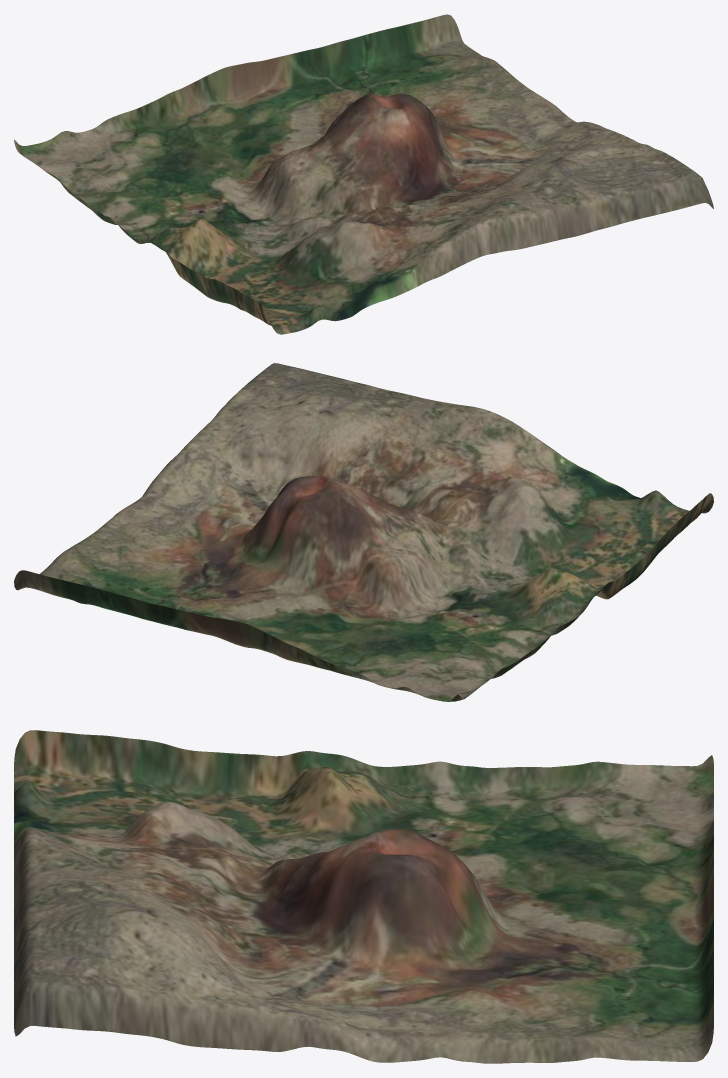
Rendered from Volcano.fbx.
3 views of the same model, one above another, from view 1: azimuth 30°, elevation 25°; view 2: azimuth 150°, elevation 25°; view 3: azimuth 270°, elevation 25° (orthographic). The views are drawn at different scales.
Parts seen in each view (by area): view 1: Plane; view 2: Plane; view 3: Plane.
Part boxes in pixels (x1,y1,x2,y2): Plane: [14, 14, 713, 334]; Plane: [14, 363, 713, 701]; Plane: [14, 730, 713, 1063].
Size of the model in its own units: 23.86 by 4.53 by 23.86.
